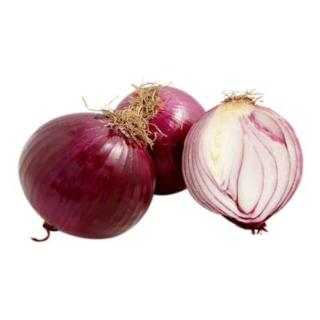Bawang Merah: (16, 78, 306, 246)
